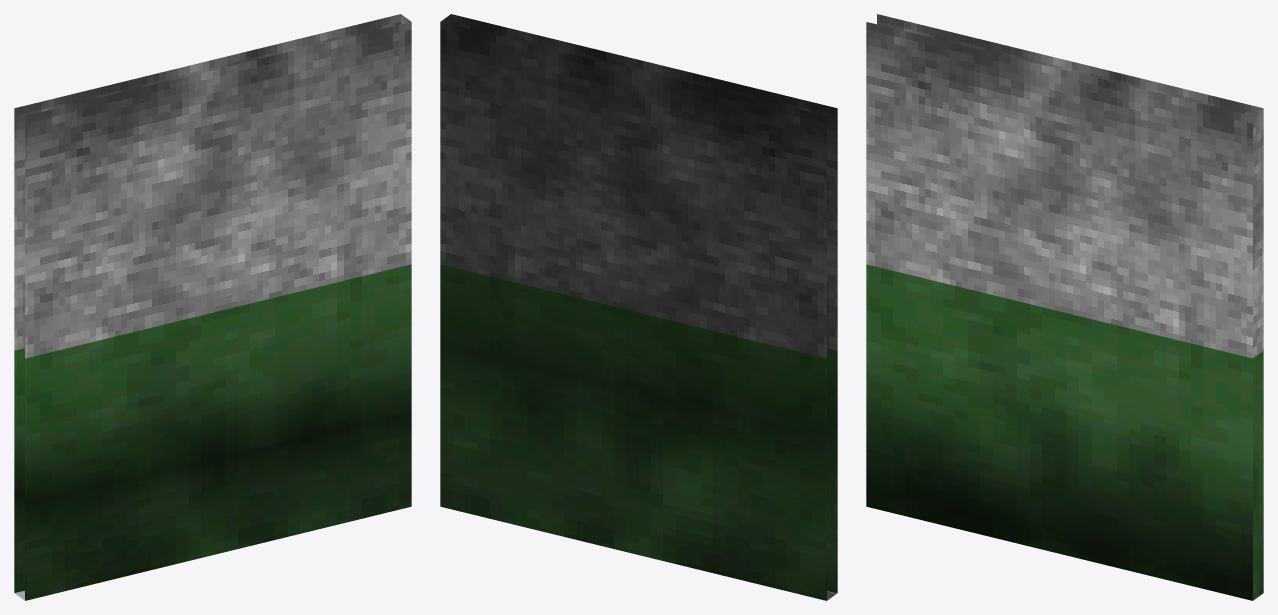
Rendered from Parchsecdoor1Z.obj.
3 views of the same model, side by side, from view 1: azimuth 30°, elevation 25°; view 2: azimuth 150°, elevation 25°; view 3: azimuth 330°, elevation 25° (orthographic).
Bounding box in the file's own units: 584 × 700 × 28.
3 materials, 3 textured.
